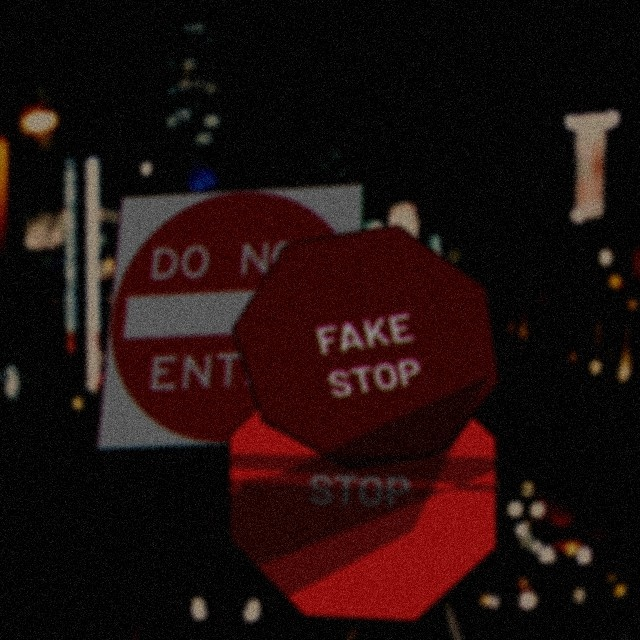DO_NOT_ENTER: (95, 182, 365, 452)
FAKE_STOP: (231, 224, 501, 469)
STOP: (228, 360, 498, 623)
